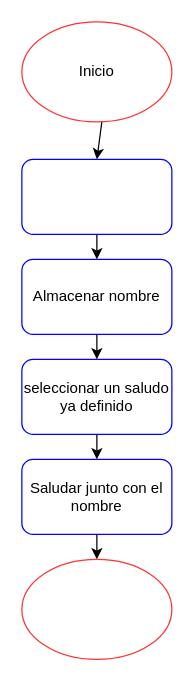
Image size: 194x681. Some labels were removed from this diagram. The centre of each missing label's shape, as x and y in pixels:
"fin" belongs at point (96, 608).
"Por favor ingresa tu nombre" belongs at point (96, 196).
